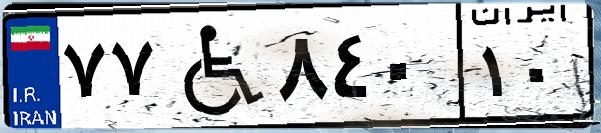0: (385, 28, 445, 110), (525, 38, 570, 115)
1: (475, 38, 525, 113)
4: (330, 28, 385, 110)
7: (57, 26, 110, 100), (110, 28, 158, 98)
8: (270, 28, 330, 110)
ژ (معلولین و جانبازان): (158, 12, 270, 120)
